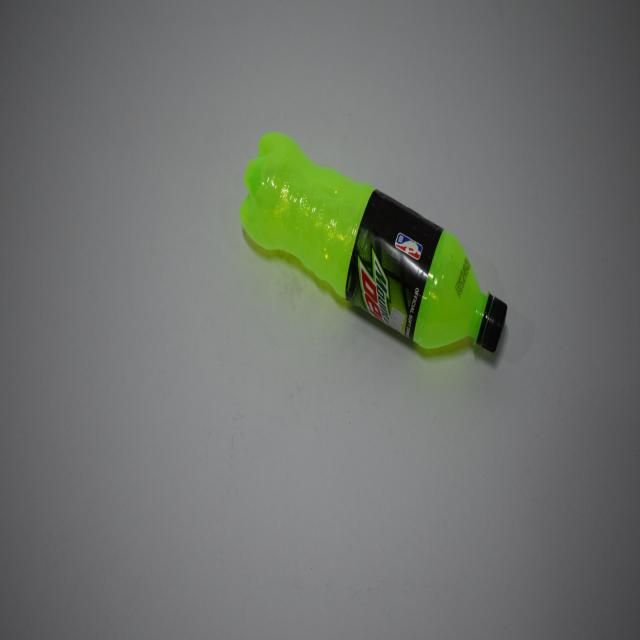bottle: (241, 133, 508, 354)
